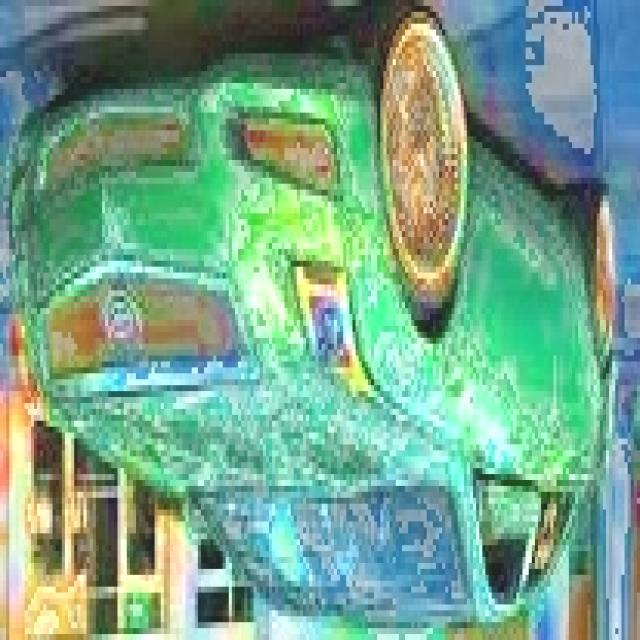green: (12, 0, 618, 634)
